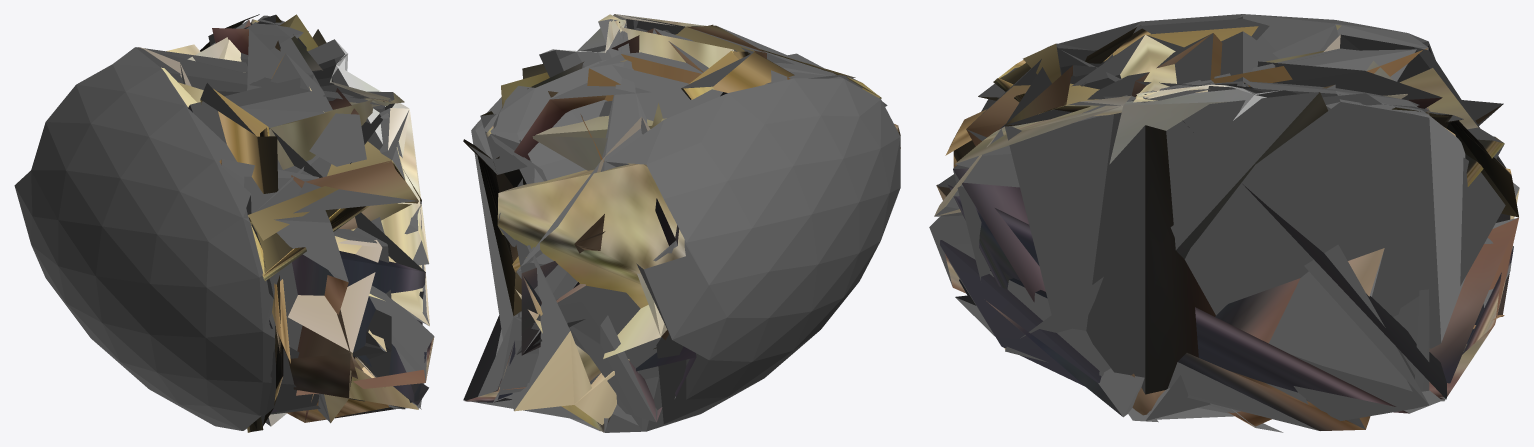
3 views of the same model, side by side, from view 1: azimuth 30°, elevation 25°; view 2: azimuth 150°, elevation 25°; view 3: azimuth 270°, elevation 25° (orthographic). The views are drawn at different scales.
Parts seen in each view (by area): view 1: link_3_visual; view 2: link_3_visual; view 3: link_3_visual.
Part boxes in pixels (x1,y1,x2,y2): link_3_visual: (14,14,434,432); link_3_visual: (463,14,900,432); link_3_visual: (929,14,1519,432).
Bounding box in the file's own units: 0.00175 × 0.00207 × 0.00323.
Materials: 1 (1 with a texture image).
